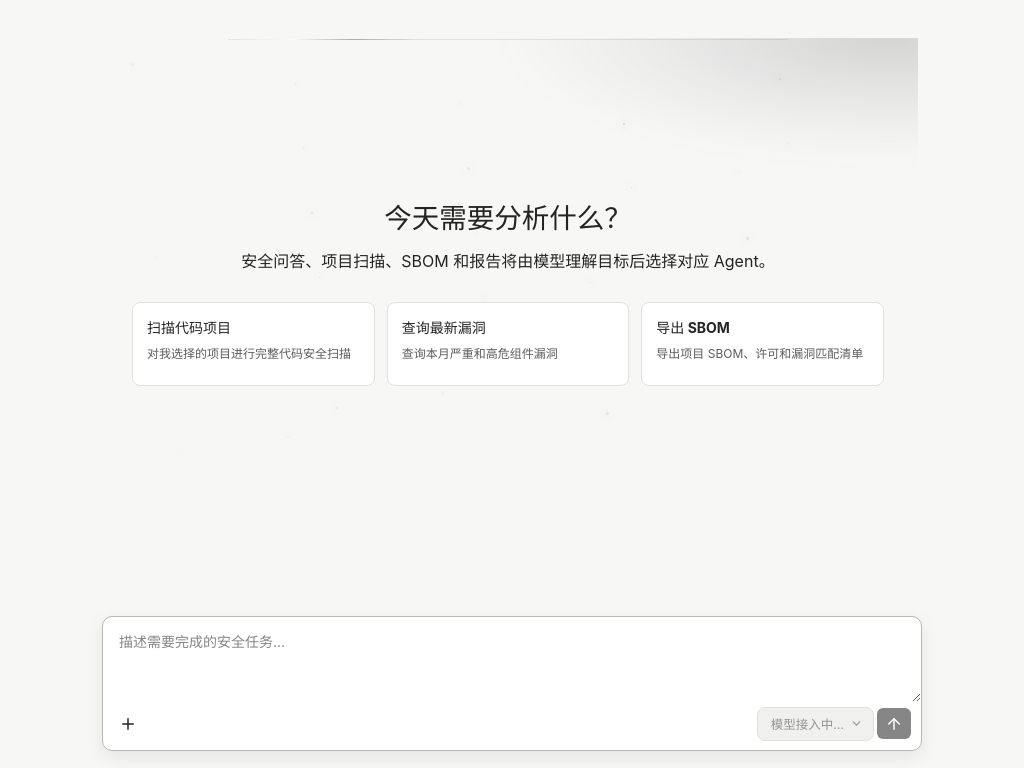
AssistantWorkspace project routing › routes the vulnerability quick action deterministically and keeps one useful error turn
Click the button "查询最新漏洞 查询本月严重和高危组件漏洞".
click(508, 344)  # box [387,302,629,386]
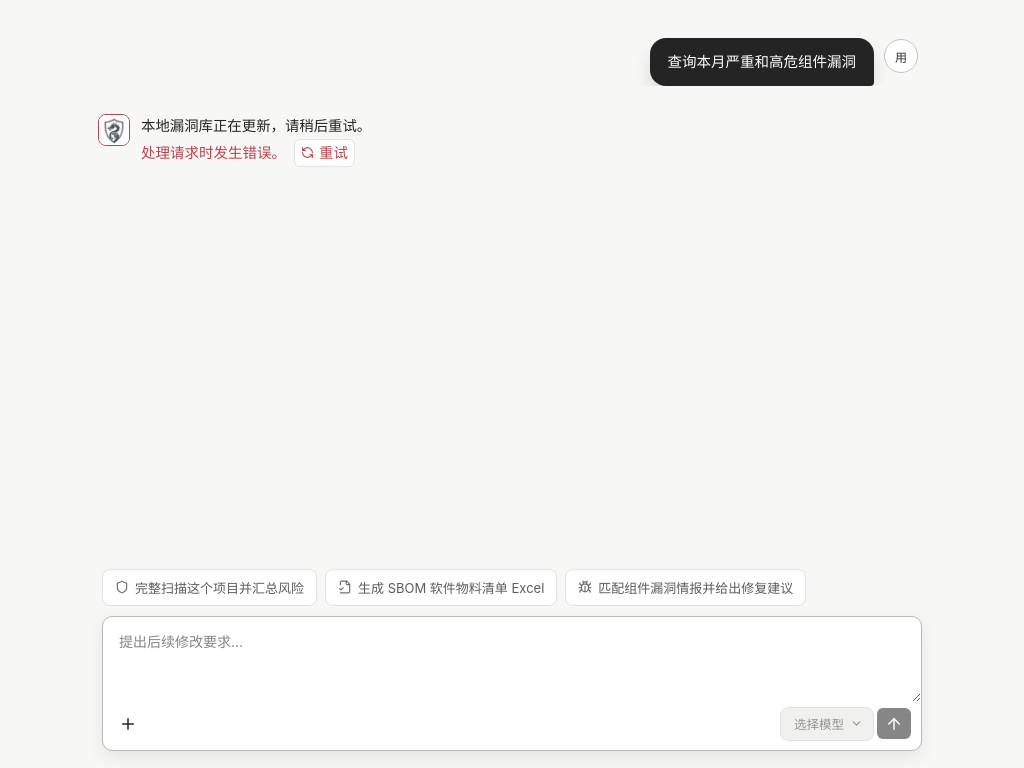
Now the text "本地漏洞库正在更新，请稍后重试。" is shown, box [141,117,371,134]
